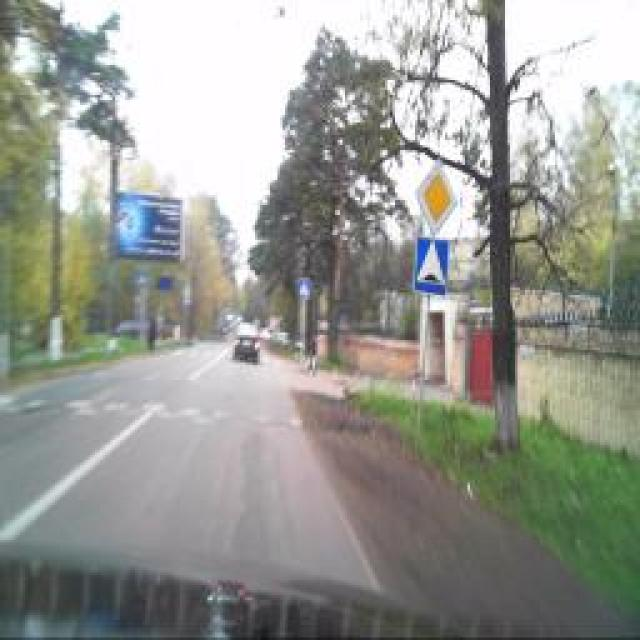sign: (416, 159, 459, 236)
